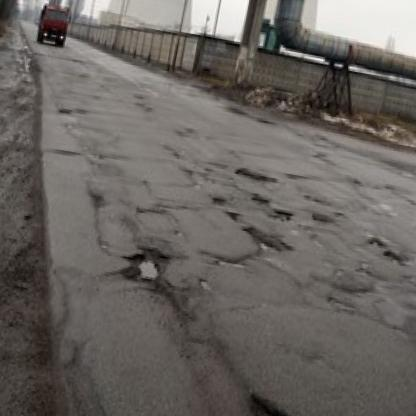pothole: (125, 242, 171, 289), (240, 392, 309, 416), (239, 223, 285, 255), (234, 165, 280, 186), (381, 246, 404, 261), (250, 193, 269, 209), (274, 206, 292, 220), (368, 234, 383, 248), (210, 195, 226, 206), (225, 209, 238, 222)
